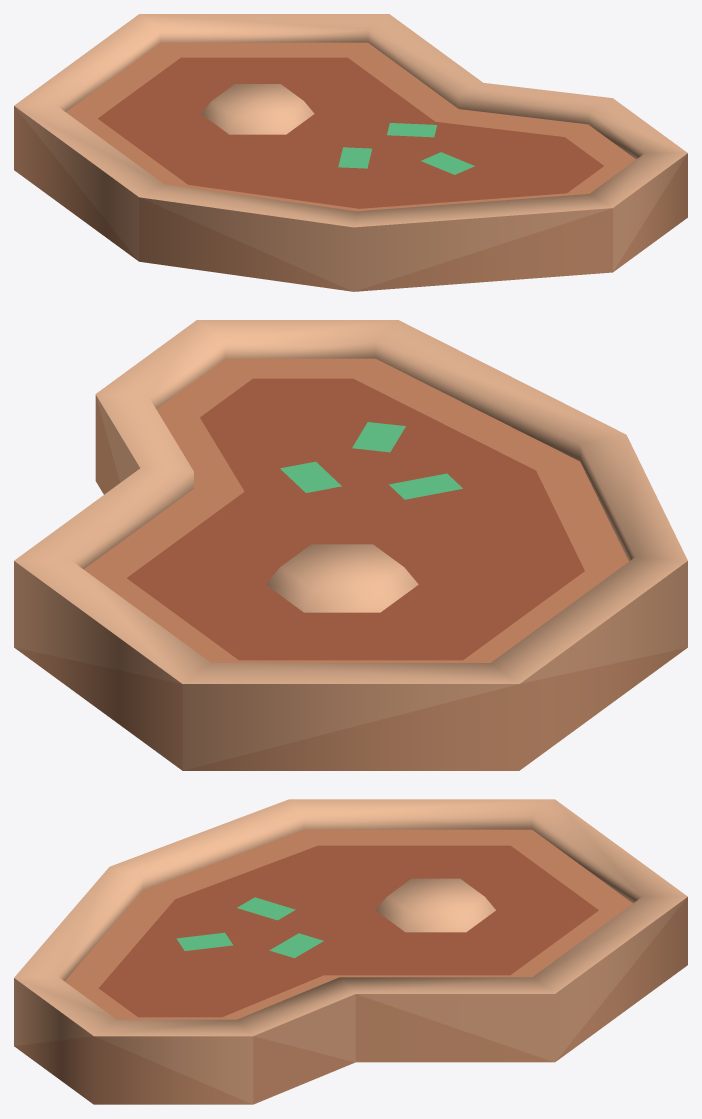
The model's file is carne.glb.
3 renders of one model, top to bottom at view 1: azimuth 30°, elevation 25°; view 2: azimuth 150°, elevation 25°; view 3: azimuth 270°, elevation 25°, orthographic. The views are drawn at different scales.
Visible parts, largest first — view 1: meat-cooked; view 2: meat-cooked; view 3: meat-cooked.
Part boxes in pixels (x1,y1,x2,y2): meat-cooked: (14,14,687,291); meat-cooked: (14,320,687,770); meat-cooked: (14,799,687,1104).
Size of the model in its own units: 0.4785 by 0.0645 by 0.5754.
